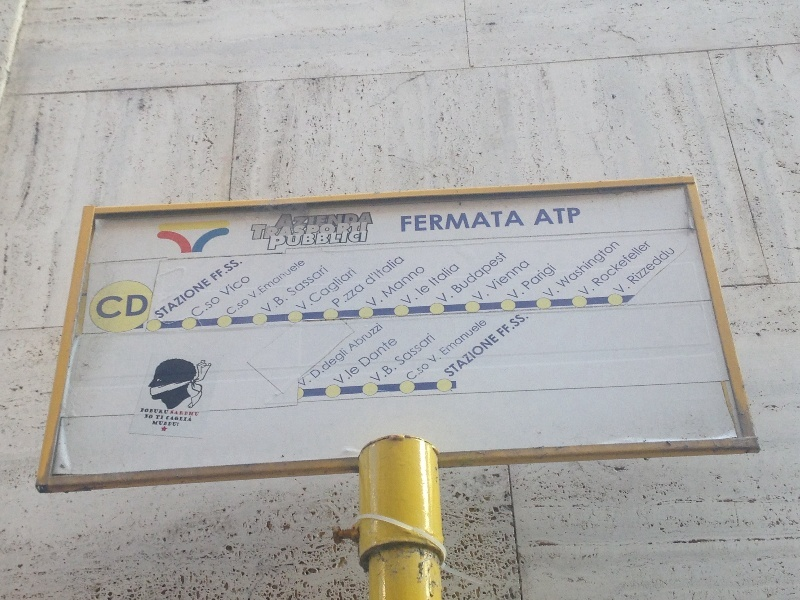text: (545, 239, 560, 297), (561, 239, 576, 297), (577, 239, 592, 297), (593, 239, 608, 297), (593, 238, 608, 295), (609, 238, 624, 295), (625, 238, 640, 295), (609, 239, 623, 297), (578, 238, 592, 295), (449, 250, 464, 302), (465, 250, 480, 302), (481, 250, 496, 302), (369, 332, 384, 382), (385, 332, 400, 382), (401, 332, 416, 382), (417, 332, 432, 382), (625, 245, 640, 293), (641, 245, 656, 293), (657, 245, 672, 293), (273, 265, 288, 312), (289, 265, 304, 312), (305, 265, 320, 312), (449, 333, 464, 379), (465, 333, 480, 379), (481, 333, 496, 379), (497, 250, 510, 302), (433, 318, 448, 363), (449, 318, 464, 363), (465, 318, 480, 363), (305, 267, 320, 311), (321, 267, 336, 311), (337, 267, 352, 311), (161, 277, 176, 320), (177, 277, 192, 320), (193, 277, 208, 320), (369, 264, 384, 307), (385, 264, 400, 307), (401, 264, 416, 307), (481, 258, 496, 301), (497, 258, 512, 301), (513, 258, 528, 301), (436, 250, 448, 302), (257, 258, 272, 299), (273, 258, 288, 299), (289, 258, 304, 299), (305, 347, 320, 387), (321, 347, 336, 387), (641, 238, 651, 295), (260, 265, 272, 312), (337, 347, 351, 387), (513, 263, 528, 299), (529, 263, 544, 299), (545, 263, 560, 299), (613, 245, 624, 293), (369, 335, 384, 368), (369, 255, 384, 287), (385, 255, 400, 287), (353, 322, 368, 352), (369, 322, 384, 352), (385, 335, 398, 368), (417, 264, 426, 307), (471, 258, 480, 301), (321, 265, 329, 312), (433, 262, 448, 287), (247, 258, 256, 299), (113, 295, 128, 319), (129, 295, 144, 319), (337, 284, 352, 308), (296, 267, 304, 311), (401, 210, 416, 233), (417, 210, 432, 233), (433, 210, 448, 233), (449, 210, 464, 233), (465, 210, 480, 233), (481, 210, 496, 233), (497, 210, 512, 233), (401, 282, 416, 304), (358, 335, 368, 368), (273, 230, 288, 251), (289, 230, 304, 251), (305, 230, 320, 251), (321, 230, 336, 251), (337, 230, 352, 251), (353, 230, 368, 251), (225, 274, 240, 295), (337, 363, 352, 384), (481, 318, 488, 363), (353, 284, 366, 308), (353, 267, 360, 311), (417, 282, 431, 304), (100, 295, 112, 319), (545, 207, 560, 226), (561, 207, 576, 226), (297, 347, 304, 387), (417, 362, 431, 382), (513, 210, 525, 233), (449, 262, 460, 287), (257, 222, 272, 240), (273, 222, 288, 240), (289, 222, 304, 240), (305, 222, 320, 240), (321, 222, 336, 240), (337, 222, 352, 240), (353, 222, 368, 240), (225, 298, 240, 316), (426, 318, 432, 363), (513, 313, 528, 331), (154, 277, 160, 320), (289, 213, 304, 230), (305, 213, 320, 230), (321, 213, 336, 230), (337, 213, 352, 230), (353, 213, 368, 230), (225, 259, 240, 275), (497, 323, 512, 339), (443, 333, 448, 379), (405, 362, 416, 382), (209, 294, 221, 312), (209, 268, 224, 282), (241, 274, 251, 295), (507, 263, 512, 299), (241, 298, 250, 316), (363, 255, 368, 287), (197, 304, 208, 318), (577, 207, 585, 226), (433, 332, 436, 382), (217, 274, 224, 295), (353, 363, 360, 384), (673, 245, 676, 293), (497, 333, 500, 379), (209, 277, 212, 320), (365, 264, 368, 307), (401, 255, 405, 287), (331, 284, 336, 308), (348, 322, 352, 352), (542, 239, 544, 297), (282, 213, 288, 230), (428, 262, 432, 287), (145, 295, 149, 319), (251, 222, 256, 240), (145, 408, 160, 414), (177, 416, 192, 422), (161, 421, 176, 427), (540, 207, 544, 226), (177, 411, 192, 416), (146, 414, 160, 419), (369, 213, 373, 230), (333, 363, 336, 384), (205, 294, 208, 312), (167, 416, 176, 422), (509, 313, 512, 331), (241, 259, 244, 275), (161, 408, 169, 414), (529, 258, 530, 301), (270, 230, 272, 251), (153, 421, 160, 427), (305, 258, 306, 299), (193, 411, 200, 416), (172, 411, 176, 416), (156, 415, 160, 420), (141, 408, 144, 414), (529, 313, 530, 331), (223, 259, 224, 275), (161, 415, 164, 420), (177, 421, 179, 427)
